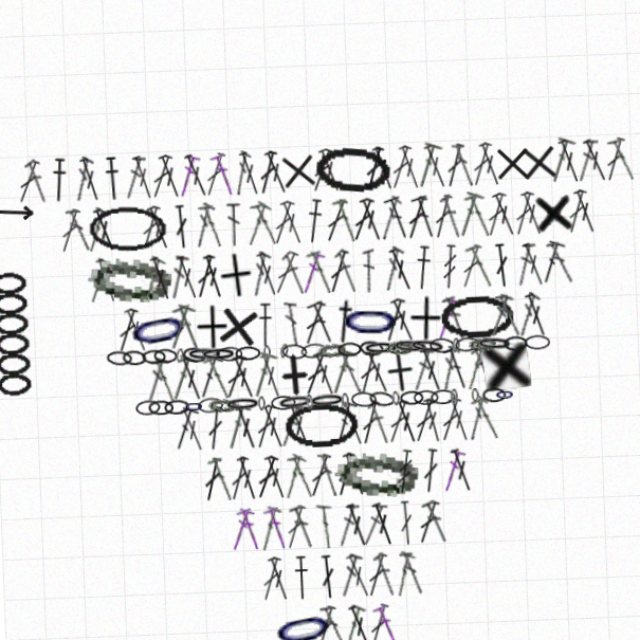chain: (90, 247, 171, 296), (316, 440, 397, 488), (307, 151, 382, 200), (93, 201, 168, 246), (250, 583, 314, 633), (124, 295, 188, 345), (271, 395, 342, 437), (422, 299, 493, 341), (326, 297, 387, 342), (391, 337, 427, 355), (375, 337, 411, 354), (265, 386, 300, 402), (455, 338, 490, 354), (295, 386, 330, 401), (181, 338, 216, 353), (215, 387, 250, 401), (194, 339, 229, 353), (348, 339, 383, 353), (351, 385, 377, 403), (335, 627, 370, 640), (305, 338, 332, 354), (177, 337, 201, 354), (344, 337, 368, 354), (105, 338, 130, 354), (271, 338, 296, 354), (289, 338, 314, 354), (448, 338, 474, 353), (120, 338, 144, 354), (300, 626, 327, 640), (200, 387, 226, 401), (369, 339, 395, 353), (131, 386, 155, 401), (190, 386, 214, 401), (335, 386, 359, 401), (411, 338, 435, 353), (256, 626, 281, 640), (150, 338, 173, 353), (435, 338, 458, 353), (143, 387, 167, 401), (158, 387, 182, 401), (259, 387, 283, 401), (394, 387, 418, 401), (410, 387, 434, 401), (210, 339, 234, 353), (227, 339, 251, 353), (501, 339, 525, 353), (381, 387, 404, 401), (459, 387, 482, 401), (139, 339, 162, 353), (324, 339, 347, 353), (481, 339, 504, 353), (271, 627, 295, 640), (330, 627, 354, 640), (316, 627, 339, 640), (289, 626, 309, 640), (177, 387, 196, 401), (471, 387, 490, 401), (354, 627, 373, 640), (269, 338, 278, 353), (292, 387, 300, 401), (171, 339, 179, 353), (432, 339, 440, 353), (247, 387, 254, 401), (326, 387, 333, 401), (374, 387, 381, 401), (429, 387, 436, 401), (449, 387, 456, 401), (254, 339, 261, 353)
double: (161, 345, 192, 390), (312, 345, 343, 390), (161, 297, 192, 342), (169, 297, 200, 342), (438, 201, 469, 246), (162, 393, 192, 438), (187, 345, 217, 390), (238, 345, 268, 390), (296, 297, 326, 342), (401, 153, 431, 198), (527, 153, 557, 198), (447, 394, 477, 438), (238, 202, 268, 246), (212, 393, 241, 438), (515, 249, 544, 294), (372, 201, 401, 246), (263, 250, 293, 293), (397, 490, 426, 534), (195, 346, 224, 390), (288, 346, 317, 390), (447, 250, 476, 294), (246, 202, 275, 246), (313, 202, 342, 246), (560, 154, 589, 198), (586, 154, 615, 198), (314, 393, 342, 438), (423, 345, 451, 390), (398, 201, 426, 246), (314, 586, 342, 630), (347, 586, 375, 630), (322, 538, 350, 582), (239, 442, 267, 486), (264, 442, 292, 486), (272, 442, 300, 486), (289, 442, 317, 486), (365, 394, 393, 438), (213, 346, 241, 390), (347, 346, 375, 390), (440, 346, 468, 390), (289, 298, 317, 342), (373, 298, 401, 342), (465, 298, 493, 342), (87, 250, 115, 294), (138, 250, 166, 294), (373, 250, 401, 294), (87, 202, 115, 246), (339, 202, 367, 246), (448, 202, 476, 246), (24, 154, 52, 198), (150, 154, 178, 198), (183, 154, 211, 198), (302, 154, 330, 198), (322, 586, 349, 630), (213, 490, 240, 534), (239, 490, 266, 534), (272, 490, 299, 534), (390, 490, 417, 534), (196, 442, 223, 486), (322, 442, 349, 486), (415, 442, 442, 486), (171, 394, 198, 438), (247, 394, 274, 438), (272, 394, 299, 438), (390, 394, 417, 438), (415, 394, 442, 438), (146, 346, 173, 390), (221, 346, 248, 390), (113, 298, 140, 342), (121, 298, 148, 342), (415, 298, 442, 342), (289, 250, 316, 294), (297, 250, 324, 294), (440, 250, 467, 294), (499, 250, 526, 294), (62, 202, 89, 246), (95, 202, 122, 246), (146, 202, 173, 246), (264, 202, 291, 246), (272, 202, 299, 246), (347, 202, 374, 246), (390, 202, 417, 246), (473, 202, 500, 246), (201, 154, 228, 198), (259, 154, 286, 198), (310, 154, 337, 198), (377, 154, 404, 198), (410, 154, 437, 198), (491, 298, 518, 341), (290, 586, 316, 630), (340, 586, 366, 630), (240, 538, 266, 582), (315, 538, 341, 582), (340, 538, 366, 582), (222, 490, 248, 534), (265, 490, 291, 534), (323, 490, 349, 534), (348, 490, 374, 534), (248, 442, 274, 486), (424, 442, 450, 486), (222, 394, 248, 438), (240, 394, 266, 438), (323, 394, 349, 438), (374, 394, 400, 438), (139, 346, 165, 390), (172, 346, 198, 390), (298, 346, 324, 390), (399, 346, 425, 390), (366, 298, 392, 342), (424, 298, 450, 342), (500, 298, 526, 342), (172, 250, 198, 294), (189, 250, 215, 294), (315, 250, 341, 294), (139, 202, 165, 246), (197, 202, 223, 246), (323, 202, 349, 246), (466, 202, 492, 246), (492, 202, 518, 246), (500, 202, 526, 246), (542, 202, 568, 246), (550, 202, 576, 246), (159, 154, 185, 198), (176, 154, 202, 198), (210, 154, 236, 198), (361, 154, 387, 198), (386, 154, 412, 198), (454, 154, 480, 198), (462, 154, 488, 198), (537, 154, 563, 198), (580, 154, 606, 198), (339, 491, 366, 533), (273, 250, 299, 293), (525, 250, 551, 293), (248, 538, 273, 582), (366, 538, 391, 582), (248, 490, 273, 534), (214, 442, 239, 486), (222, 442, 247, 486), (315, 442, 340, 486), (340, 394, 365, 438), (424, 394, 449, 438), (248, 346, 273, 390), (340, 346, 365, 390), (96, 250, 121, 294), (147, 250, 172, 294), (197, 250, 222, 294), (248, 250, 273, 294), (416, 202, 441, 246), (84, 154, 109, 198), (134, 154, 159, 198), (235, 154, 260, 198), (252, 154, 277, 198), (353, 154, 378, 198), (429, 154, 454, 198), (298, 586, 323, 629), (265, 394, 290, 437), (449, 346, 474, 389), (323, 250, 348, 293), (366, 250, 391, 293), (189, 202, 214, 245), (366, 202, 391, 245), (349, 538, 373, 581), (349, 394, 373, 437), (324, 346, 348, 389), (392, 346, 416, 389), (475, 298, 499, 341), (241, 250, 265, 293), (72, 202, 96, 245), (34, 154, 58, 197), (77, 154, 101, 197), (190, 442, 213, 486), (400, 394, 423, 438), (165, 250, 188, 294), (375, 538, 398, 581), (316, 490, 339, 533), (442, 394, 465, 437), (417, 346, 440, 389), (425, 202, 448, 245), (127, 154, 150, 197), (555, 154, 578, 197), (439, 154, 461, 197), (494, 250, 515, 293), (301, 442, 321, 485), (230, 154, 250, 197), (398, 442, 417, 485), (196, 394, 215, 437), (298, 491, 315, 533), (474, 251, 491, 293), (299, 539, 315, 581), (375, 491, 391, 533), (173, 203, 189, 245), (275, 299, 289, 341), (224, 203, 238, 245), (351, 251, 362, 293)
enseble_chain: (0, 260, 36, 380), (612, 286, 636, 353)
half_double: (317, 297, 347, 342), (296, 202, 318, 245), (398, 250, 418, 293), (58, 154, 76, 197), (248, 299, 265, 341), (109, 155, 126, 197), (274, 539, 290, 581)
noise: (4, 196, 44, 213), (619, 183, 640, 205)
single: (207, 296, 255, 344), (460, 345, 506, 391), (360, 345, 405, 390), (271, 153, 316, 198), (260, 346, 304, 390), (499, 154, 543, 198), (475, 155, 517, 197), (513, 202, 554, 245), (213, 250, 248, 294), (391, 298, 425, 341), (190, 299, 222, 341)
treble: (373, 442, 393, 485), (424, 250, 442, 293)
